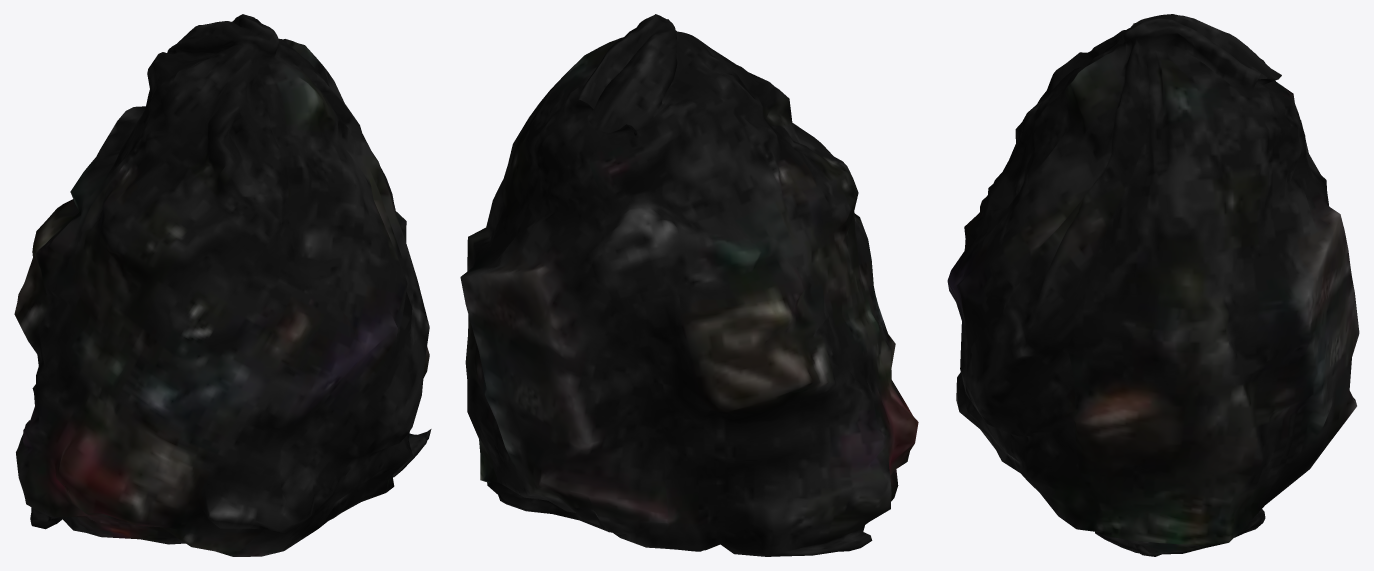
Rendered from trashbag.glb.
The picture shows the model from 3 angles, left to right: view 1: azimuth 30°, elevation 25°; view 2: azimuth 150°, elevation 25°; view 3: azimuth 270°, elevation 25°; orthographic projection. The views are drawn at different scales.
Parts seen in each view (by area): view 1: trashbag; view 2: trashbag; view 3: trashbag.
Boxes of the visible parts, <box> form: trashbag: <box>14,14,431,556</box>; trashbag: <box>460,14,918,556</box>; trashbag: <box>947,14,1359,556</box>.
Bounding box in the file's own units: 0.5281 × 0.575 × 0.4629.
Materials: 1 (1 with a texture image).
